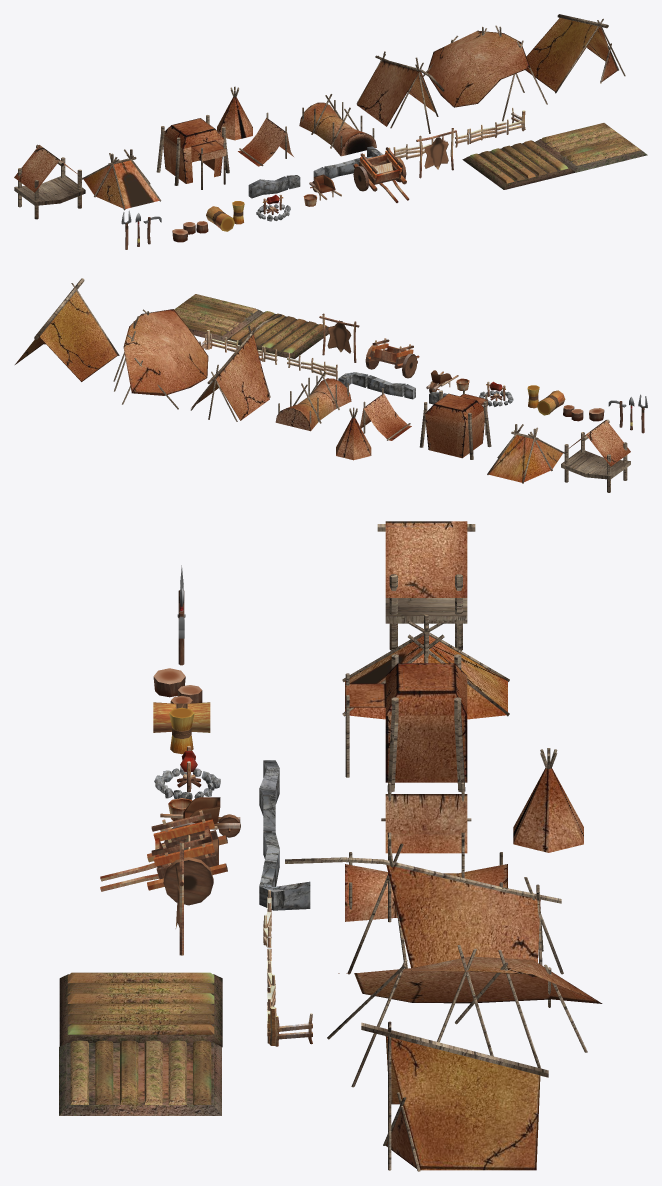
The model's file is MedievalTown.fbx.
3 renders of one model, top to bottom at view 1: azimuth 30°, elevation 25°; view 2: azimuth 150°, elevation 25°; view 3: azimuth 270°, elevation 25°, orthographic. The views are drawn at different scales.
Parts seen in each view (by area): view 1: Tent07, Tent08, Tent03, Tent06, Crops01, Crops02, Tent01, Tent02, Tent05, PropsCart, Tent04, Tent09 (+7 smaller); view 2: Tent07, Tent08, Tent03, Tent06, Crops01, Tent01, Crops02, Tent02, Tent05, Tent04, PropsCart, Tent09 (+8 smaller); view 3: Tent08, Tent06, Crops02, Tent03, Crops01, Tent07, Tent01, PropsCart, Tent02, Tent04, Tent09, Tent05 (+7 smaller).
Boxes of the visible parts, left/top/right/bottom form: Tent07: left=423, top=25, right=547, bottom=121; Tent08: left=525, top=14, right=625, bottom=93; Tent03: left=156, top=115, right=229, bottom=189; Tent06: left=356, top=51, right=444, bottom=133; Crops01: left=462, top=140, right=575, bottom=189; Crops02: left=535, top=123, right=647, bottom=172; Tent01: left=14, top=144, right=85, bottom=219; Tent02: left=82, top=149, right=161, bottom=210; Tent05: left=299, top=94, right=376, bottom=156; PropsCart: left=353, top=147, right=409, bottom=202; Tent04: left=238, top=112, right=293, bottom=166; Tent09: left=217, top=86, right=252, bottom=140; Tent07: left=113, top=309, right=208, bottom=409; Tent08: left=15, top=278, right=119, bottom=381; Tent03: left=419, top=388, right=491, bottom=459; Tent06: left=190, top=314, right=281, bottom=421; Crops01: left=224, top=311, right=328, bottom=358; Tent01: left=561, top=419, right=630, bottom=492; Crops02: left=174, top=294, right=263, bottom=341; Tent02: left=487, top=424, right=564, bottom=483; Tent05: left=275, top=370, right=351, bottom=431; Tent04: left=360, top=388, right=411, bottom=440; PropsCart: left=365, top=338, right=419, bottom=378; Tent09: left=336, top=407, right=371, bottom=460; Tent08: left=361, top=1021, right=548, bottom=1171; Tent06: left=285, top=843, right=563, bottom=974; Crops02: left=59, top=1040, right=221, bottom=1115; Tent03: left=345, top=654, right=467, bottom=792; Crops01: left=59, top=972, right=222, bottom=1047; Tent07: left=327, top=945, right=602, bottom=1087; Tent01: left=377, top=521, right=475, bottom=650; PropsCart: left=100, top=810, right=227, bottom=905; Tent02: left=342, top=614, right=509, bottom=719; Tent04: left=381, top=782, right=471, bottom=853; Tent09: left=513, top=748, right=583, bottom=852; Tent05: left=345, top=832, right=507, bottom=922.
Bounding box in the file's own units: 3291 × 365 × 1334.
